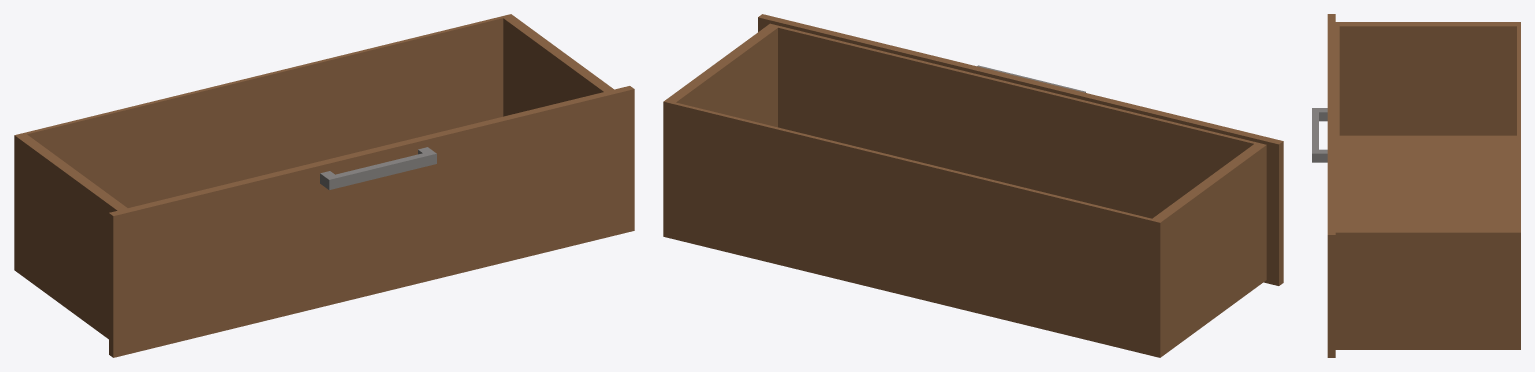
The model's file is Cupboard_09_02.fbx.
3 views of the same model, side by side, from view 1: azimuth 30°, elevation 25°; view 2: azimuth 150°, elevation 25°; view 3: azimuth 270°, elevation 25° (orthographic). The views are drawn at different scales.
Parts seen in each view (by area): view 1: Cupboard_09_02; view 2: Cupboard_09_02; view 3: Cupboard_09_02.
Boxes of the visible parts, x1,y1,x2,y2 form: Cupboard_09_02: (14,14,634,357); Cupboard_09_02: (663,14,1283,357); Cupboard_09_02: (1312,14,1520,357).
Size of the model in its own units: 128 by 33.31 by 51.18.
